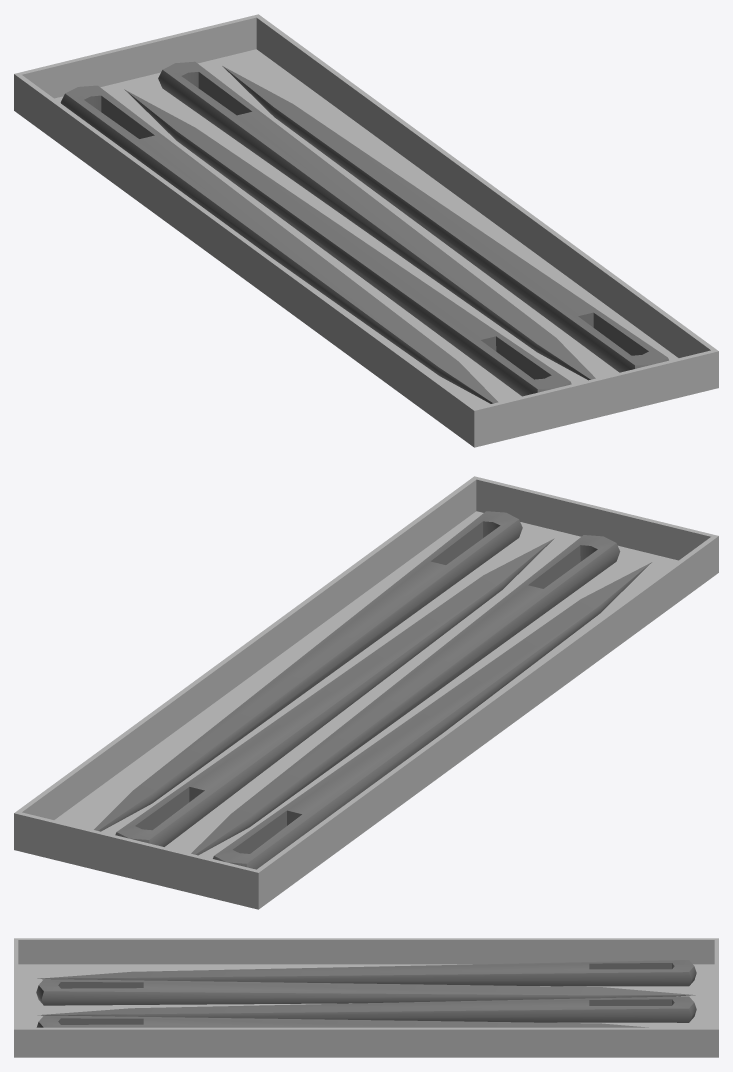
Rendered from needle-box.fbx.
3 views of the same model, one above another, from view 1: azimuth 30°, elevation 25°; view 2: azimuth 150°, elevation 25°; view 3: azimuth 270°, elevation 25° (orthographic). The views are drawn at different scales.
Parts seen in each view (by area): view 1: needle-box; view 2: needle-box; view 3: needle-box.
Boxes of the visible parts, x1,y1,x2,y2 form: needle-box: [14, 14, 718, 447]; needle-box: [14, 476, 718, 909]; needle-box: [14, 938, 718, 1057].
Size of the model in its own units: 2.48 by 0.3562 by 8.08.
Materials: 2 (2 with a texture image).
